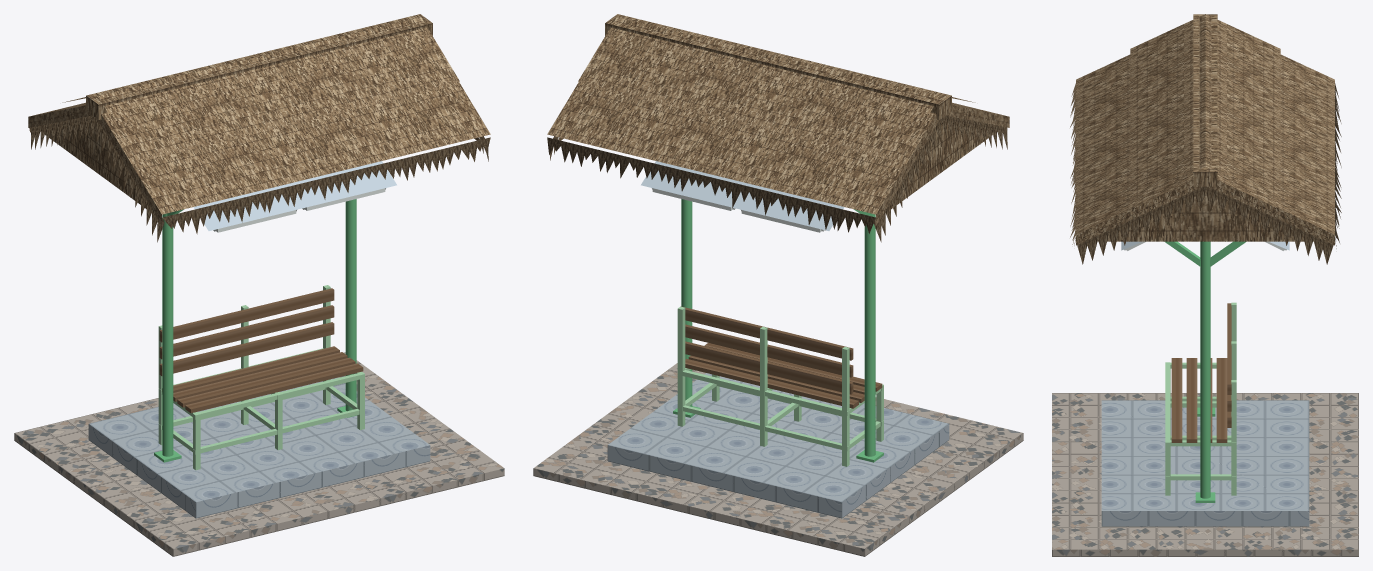
File: halte_tempat_duduk.glb
3 views of the same model, side by side, from view 1: azimuth 30°, elevation 25°; view 2: azimuth 150°, elevation 25°; view 3: azimuth 270°, elevation 25° (orthographic). The views are drawn at different scales.
Visible parts, largest first — view 1: Atap_Rumbia_Daun_Kering, Lantai_Plint_Keramik_Biru, Lantai_Apron_Mozaik_Batu, Bilah_Kayu_Bangku_Coklat, Rangka_Bangku_Hijau_Muda, Tiang_Dan_Siku_Hijau_Tua, Lapisan_Atap_Seng_BiruAbu, Rangka_Plafon_Besi_Putih; view 2: Atap_Rumbia_Daun_Kering, Lantai_Plint_Keramik_Biru, Lantai_Apron_Mozaik_Batu, Bilah_Kayu_Bangku_Coklat, Rangka_Bangku_Hijau_Muda, Tiang_Dan_Siku_Hijau_Tua, Lapisan_Atap_Seng_BiruAbu, Rangka_Plafon_Besi_Putih; view 3: Atap_Rumbia_Daun_Kering, Lantai_Apron_Mozaik_Batu, Lantai_Plint_Keramik_Biru, Bilah_Kayu_Bangku_Coklat, Tiang_Dan_Siku_Hijau_Tua, Rangka_Bangku_Hijau_Muda.
Part boxes in pixels (box(x1,y1,x2,y2)): Atap_Rumbia_Daun_Kering: box(28, 14, 490, 242); Lantai_Plint_Keramik_Biru: box(88, 377, 430, 518); Lantai_Apron_Mozaik_Batu: box(14, 352, 504, 556); Bilah_Kayu_Bangku_Coklat: box(159, 288, 363, 413); Rangka_Bangku_Hijau_Muda: box(158, 285, 364, 470); Tiang_Dan_Siku_Hijau_Tua: box(154, 199, 356, 462); Lapisan_Atap_Seng_BiruAbu: box(193, 161, 396, 230); Rangka_Plafon_Besi_Putih: box(213, 188, 385, 232); Atap_Rumbia_Daun_Kering: box(547, 14, 1009, 242); Lantai_Plint_Keramik_Biru: box(607, 373, 949, 518); Lantai_Apron_Mozaik_Batu: box(533, 363, 1023, 556); Bilah_Kayu_Bangku_Coklat: box(681, 306, 882, 408); Rangka_Bangku_Hijau_Muda: box(677, 306, 883, 466); Tiang_Dan_Siku_Hijau_Tua: box(673, 199, 883, 462); Lapisan_Atap_Seng_BiruAbu: box(641, 161, 844, 230); Rangka_Plafon_Besi_Putih: box(652, 188, 824, 232); Atap_Rumbia_Daun_Kering: box(1070, 14, 1341, 264); Lantai_Apron_Mozaik_Batu: box(1052, 393, 1358, 556); Lantai_Plint_Keramik_Biru: box(1101, 400, 1309, 526); Bilah_Kayu_Bangku_Coklat: box(1171, 303, 1231, 442); Tiang_Dan_Siku_Hijau_Tua: box(1164, 241, 1246, 502); Rangka_Bangku_Hijau_Muda: box(1165, 302, 1236, 495).
Bounding box in the file's own units: 2.48 × 2.85 × 2.04.
8 materials, 4 textured.
